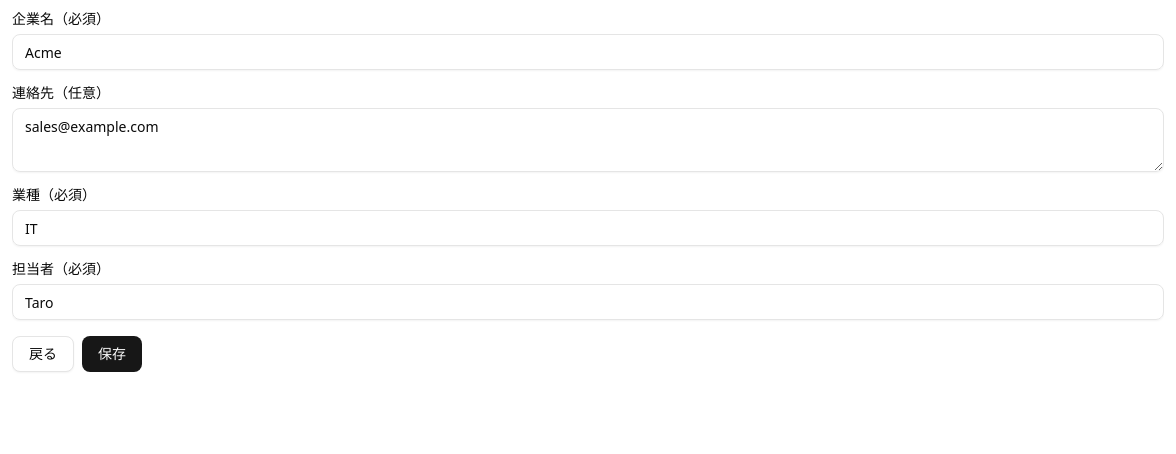
Test case: CompanyEditForm › PATCH失敗時、画面上部にサーバーエラーが表示される
Click the button "保存" at (112, 354), box [82,336,142,372]
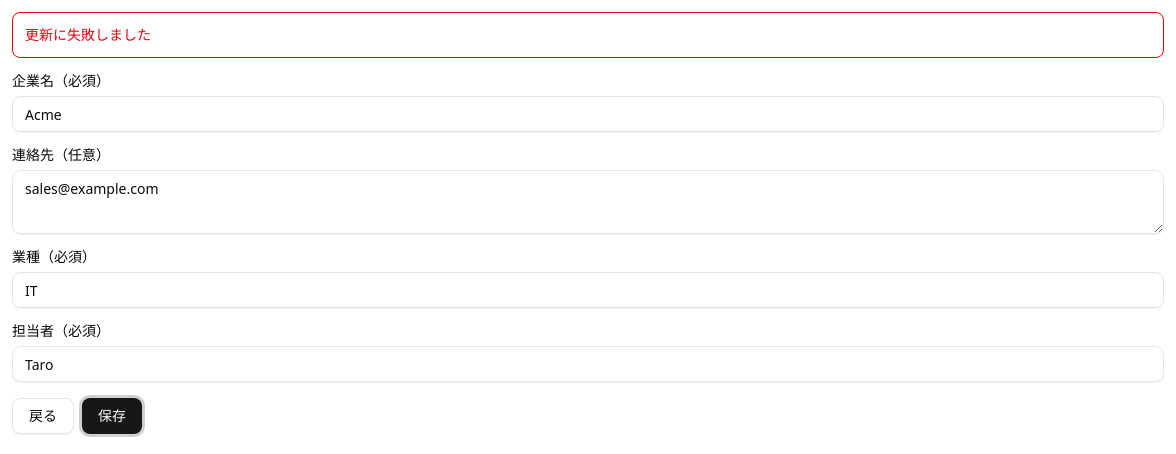
Check: the text "更新に失敗しました" is shown, box [12,12,1164,58]
